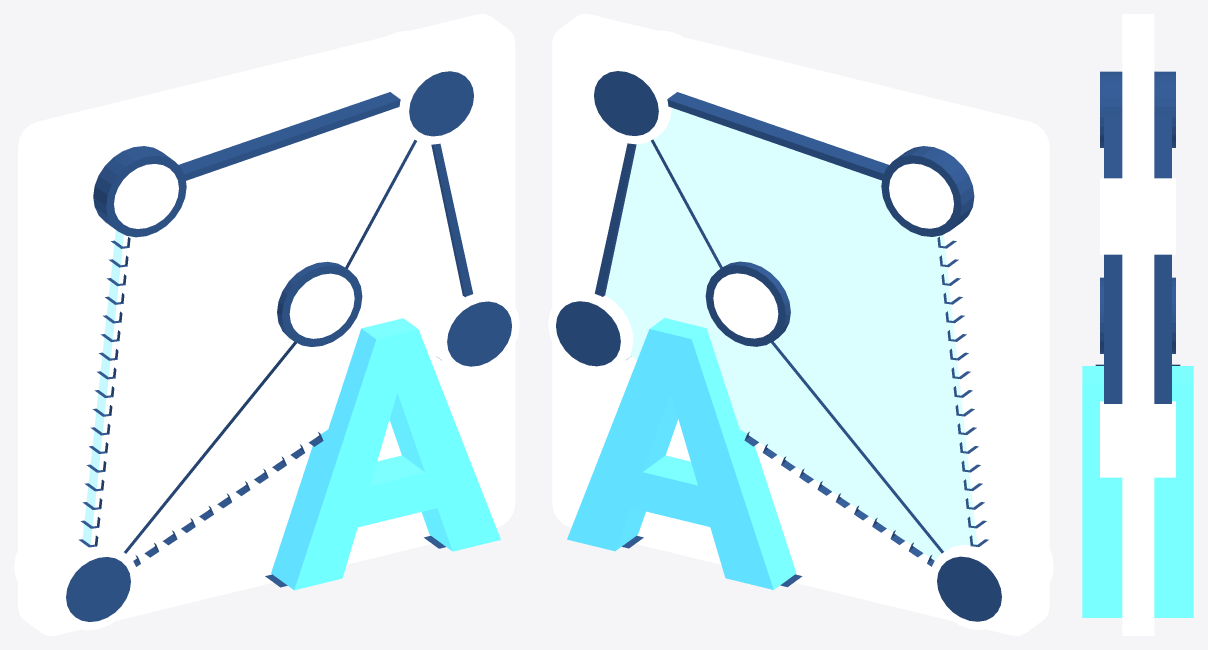
Rendered from l-icons-adaptivity-1.glb.
3 renders of one model, left to right at view 1: azimuth 30°, elevation 25°; view 2: azimuth 150°, elevation 25°; view 3: azimuth 270°, elevation 25°, orthographic. The views are drawn at different scales.
Parts seen in each view (by area): view 1: Icon_adaptivity; view 2: Icon_adaptivity; view 3: Icon_adaptivity.
Boxes of the visible parts, <box> form: Icon_adaptivity: <box>14,14,519,635</box>; Icon_adaptivity: <box>548,14,1053,635</box>; Icon_adaptivity: <box>1082,14,1193,635</box>.
Bounding box in the file's own units: 0.5645 × 0.5635 × 0.1315.
